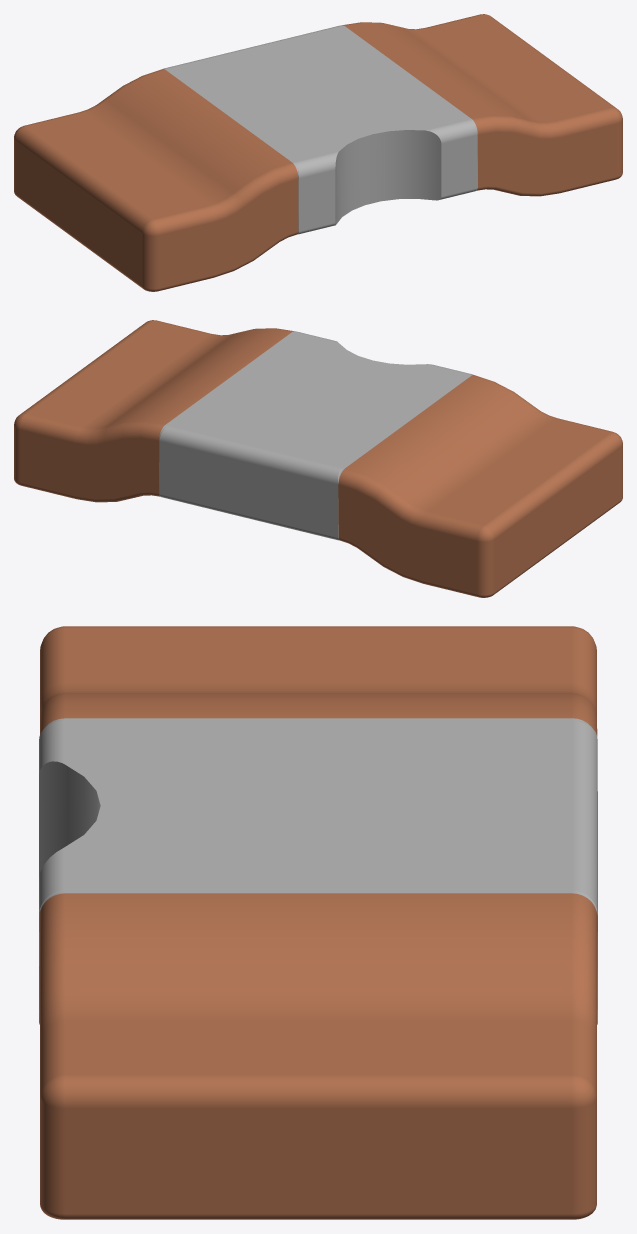
The model's file is R3920-KELVIN.glb.
3 views of the same model, one above another, from view 1: azimuth 30°, elevation 25°; view 2: azimuth 150°, elevation 25°; view 3: azimuth 270°, elevation 25° (orthographic). The views are drawn at different scales.
Visible parts, largest first — view 1: R3920-KELVIN; view 2: R3920-KELVIN; view 3: R3920-KELVIN.
Part boxes in pixels (x1,y1,x2,y2): R3920-KELVIN: (14,14,622,291); R3920-KELVIN: (14,320,622,597); R3920-KELVIN: (39,626,597,1219).
Size of the model in its own units: 0.0109 by 0.002 by 0.00552.
